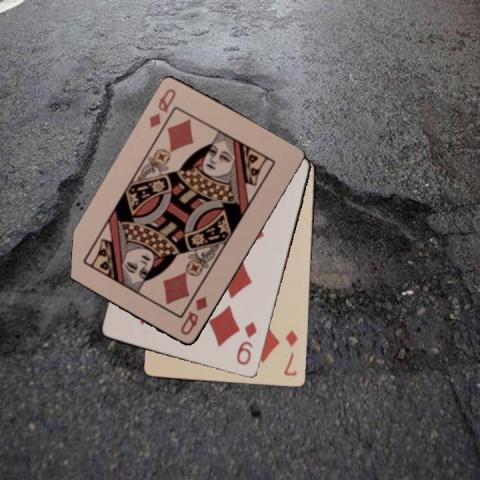7d: (281, 327, 299, 378)
9d: (233, 318, 259, 366)
Qd: (146, 85, 178, 131), (178, 294, 210, 338)
